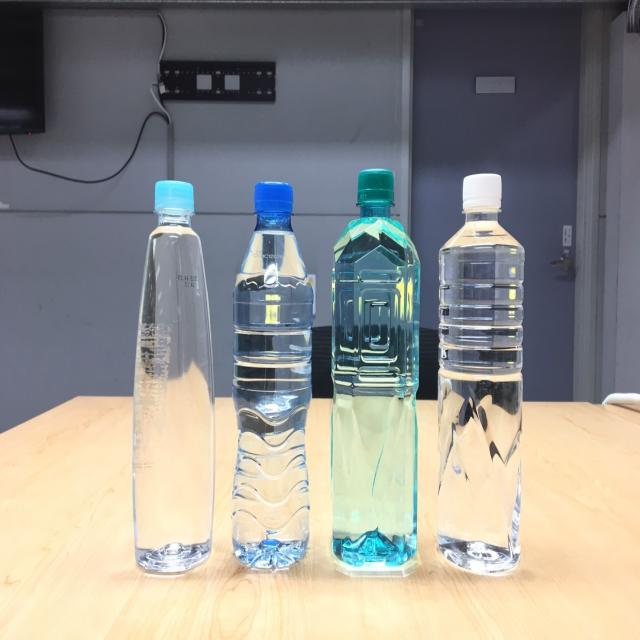plastic: (328, 168, 423, 574), (433, 169, 527, 573), (128, 180, 214, 575), (228, 179, 314, 570)
